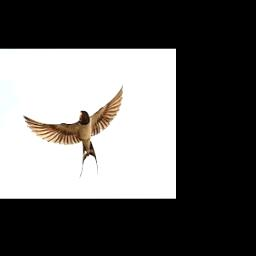Swallow: (24, 84, 124, 179)
